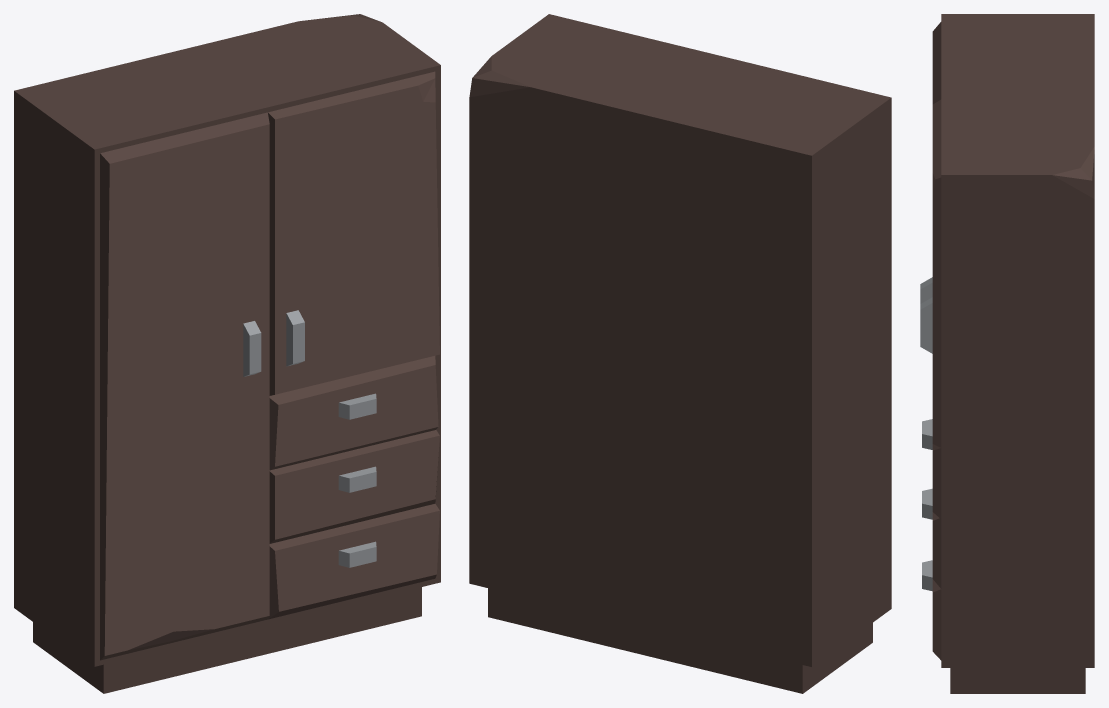
Rendered from SM_Prop_Wardrobe_01.fbx.
The picture shows the model from 3 angles, left to right: view 1: azimuth 30°, elevation 25°; view 2: azimuth 150°, elevation 25°; view 3: azimuth 270°, elevation 25°; orthographic projection. The views are drawn at different scales.
Parts seen in each view (by area): view 1: SM_Prop_Wardrobe_01; view 2: SM_Prop_Wardrobe_01; view 3: SM_Prop_Wardrobe_01.
Part boxes in pixels (left/top/right/bottom): SM_Prop_Wardrobe_01: left=14, top=14, right=440, bottom=693; SM_Prop_Wardrobe_01: left=469, top=14, right=891, bottom=693; SM_Prop_Wardrobe_01: left=920, top=14, right=1094, bottom=693.
Bounding box in the file's own units: 124 × 189 × 56.86.
